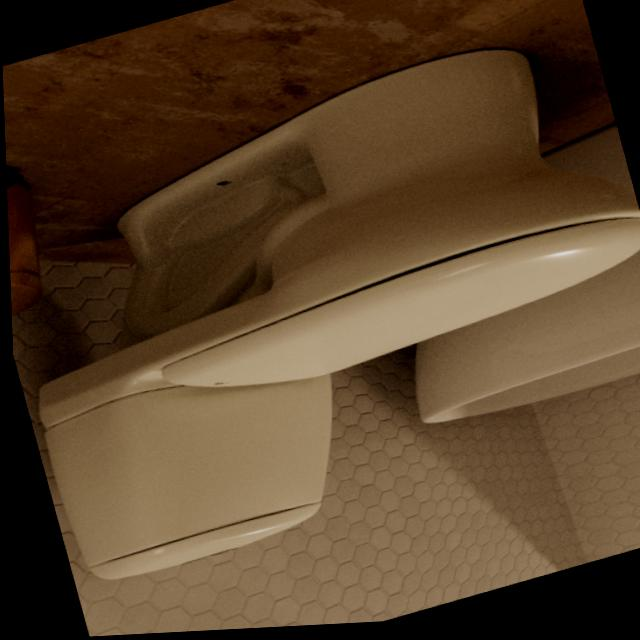toilet: (1, 21, 640, 596)
